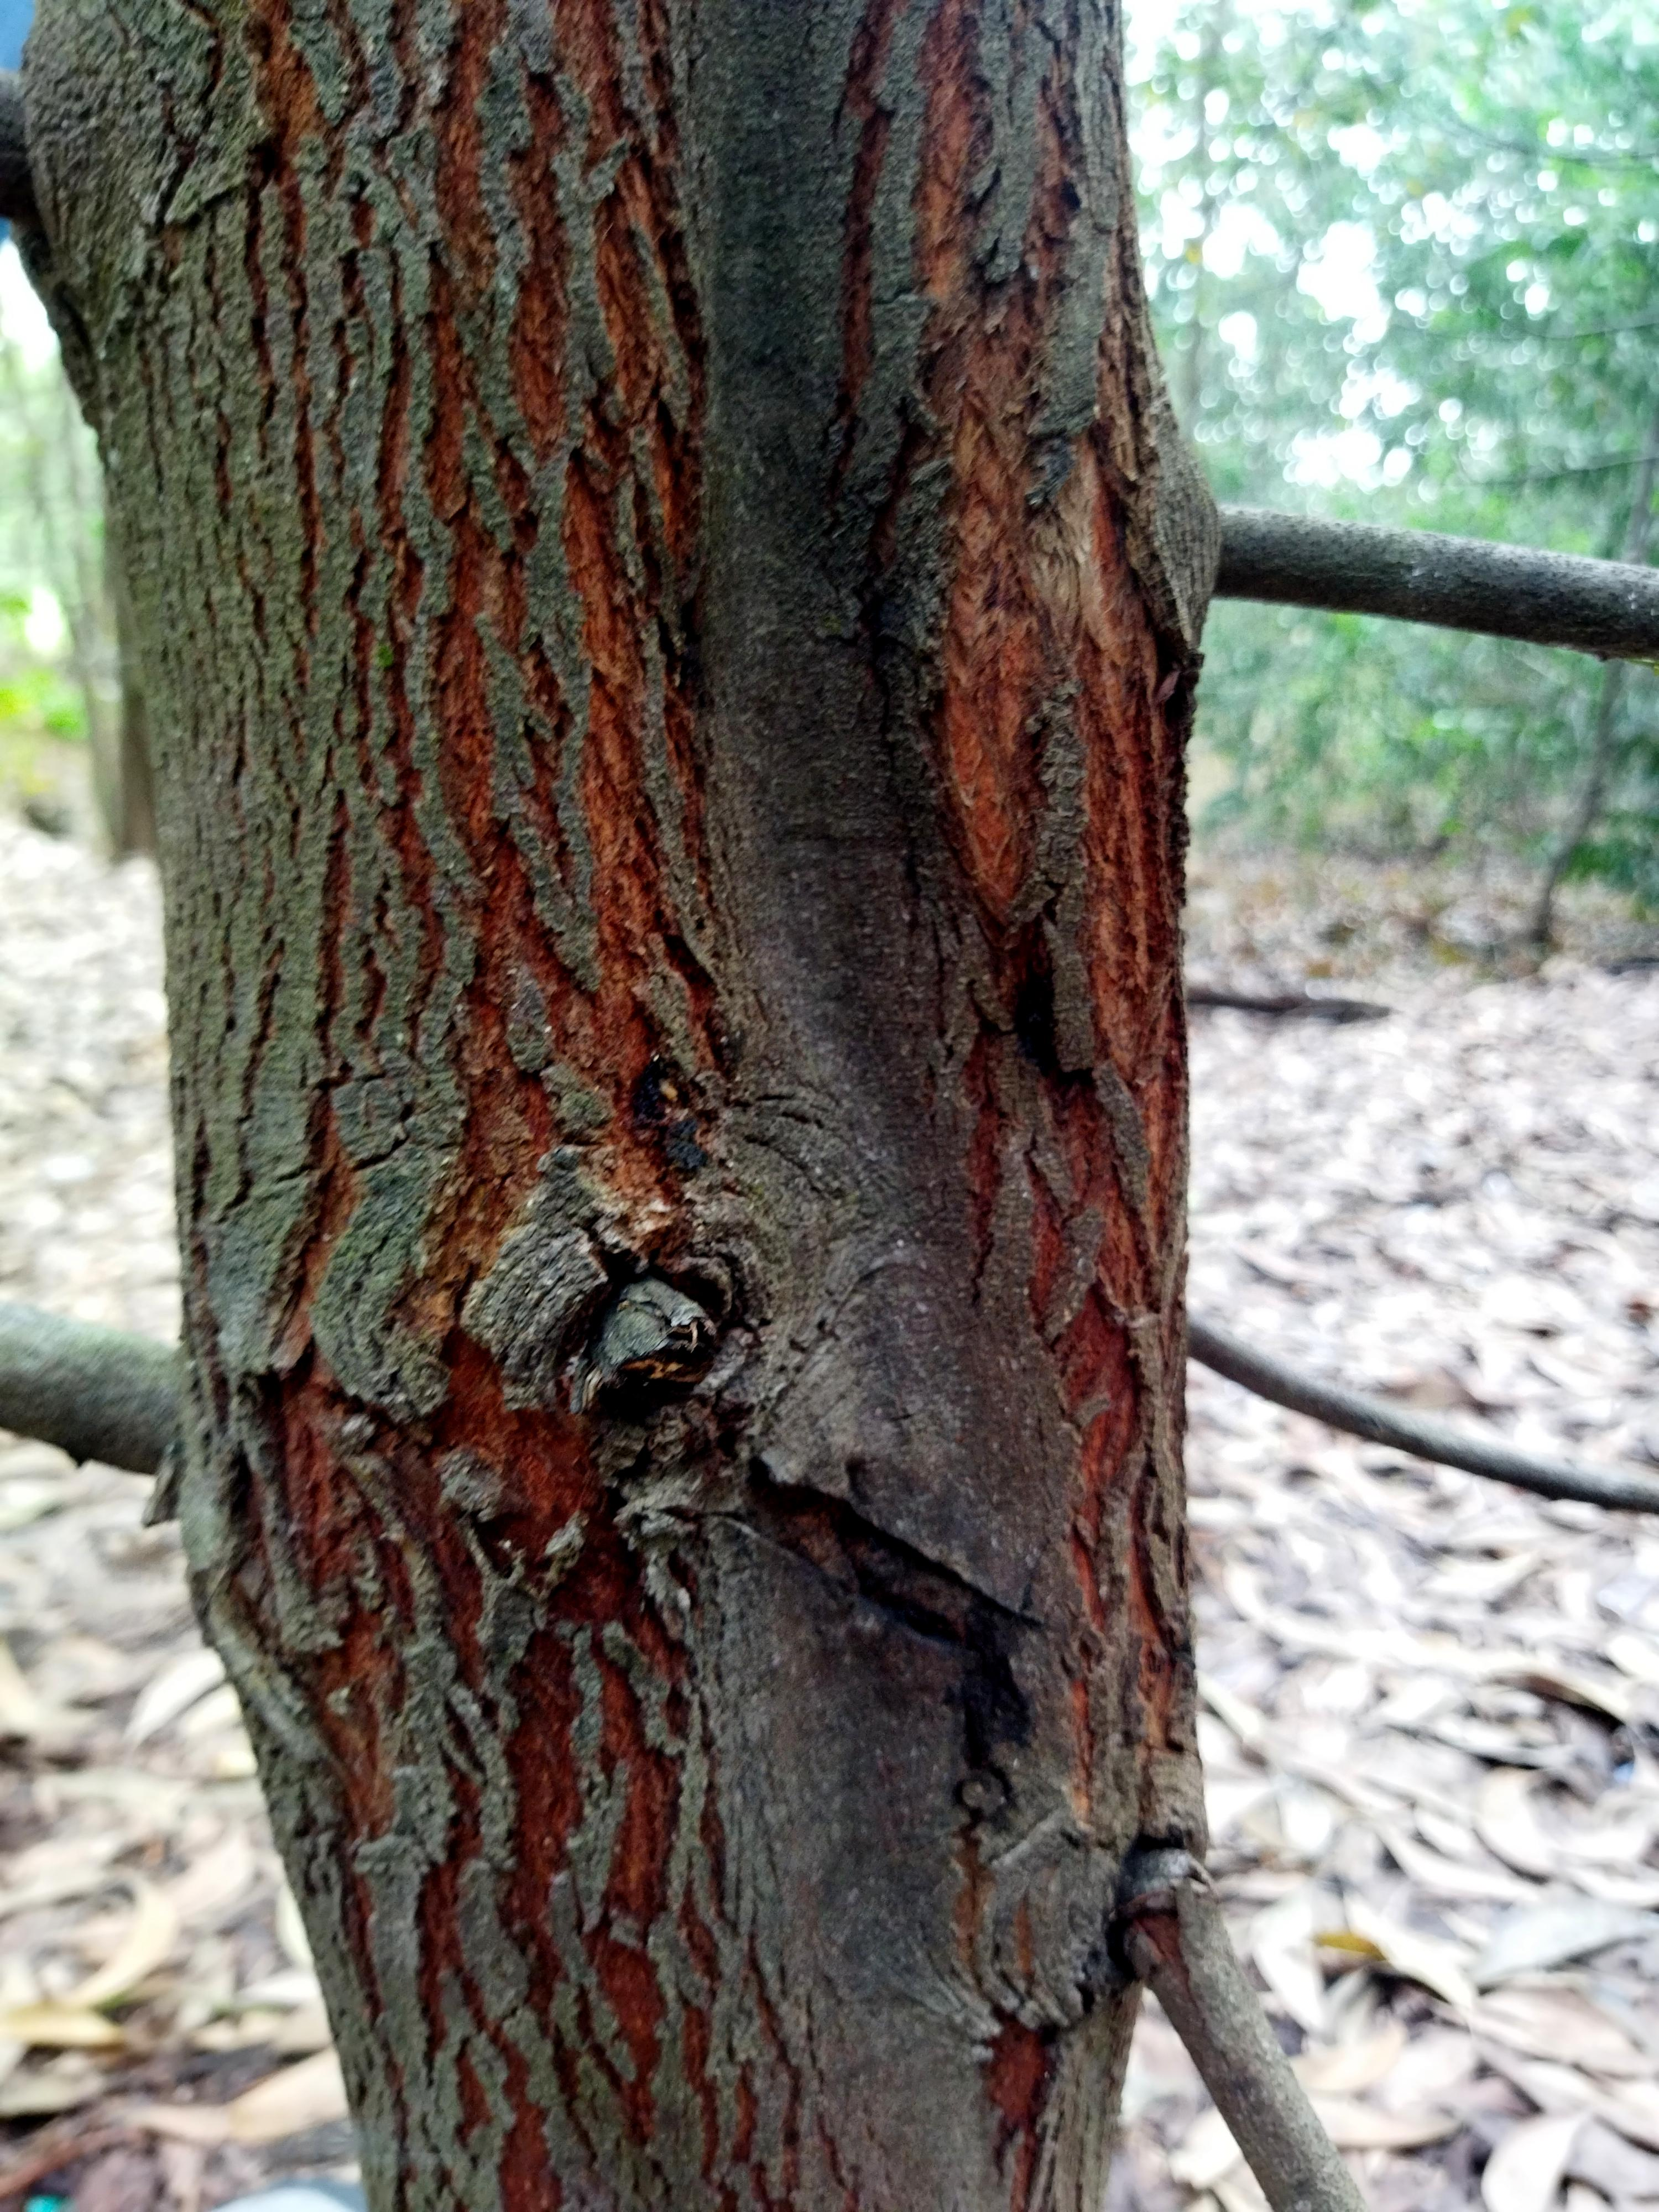Stem Deformation: (96, 0, 1222, 2212)
